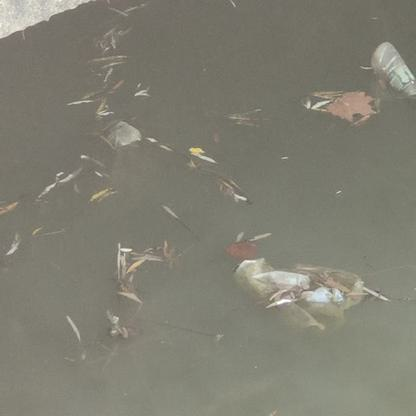plastic bag: (234, 258, 364, 327)
plastic bottle: (370, 41, 415, 99)
